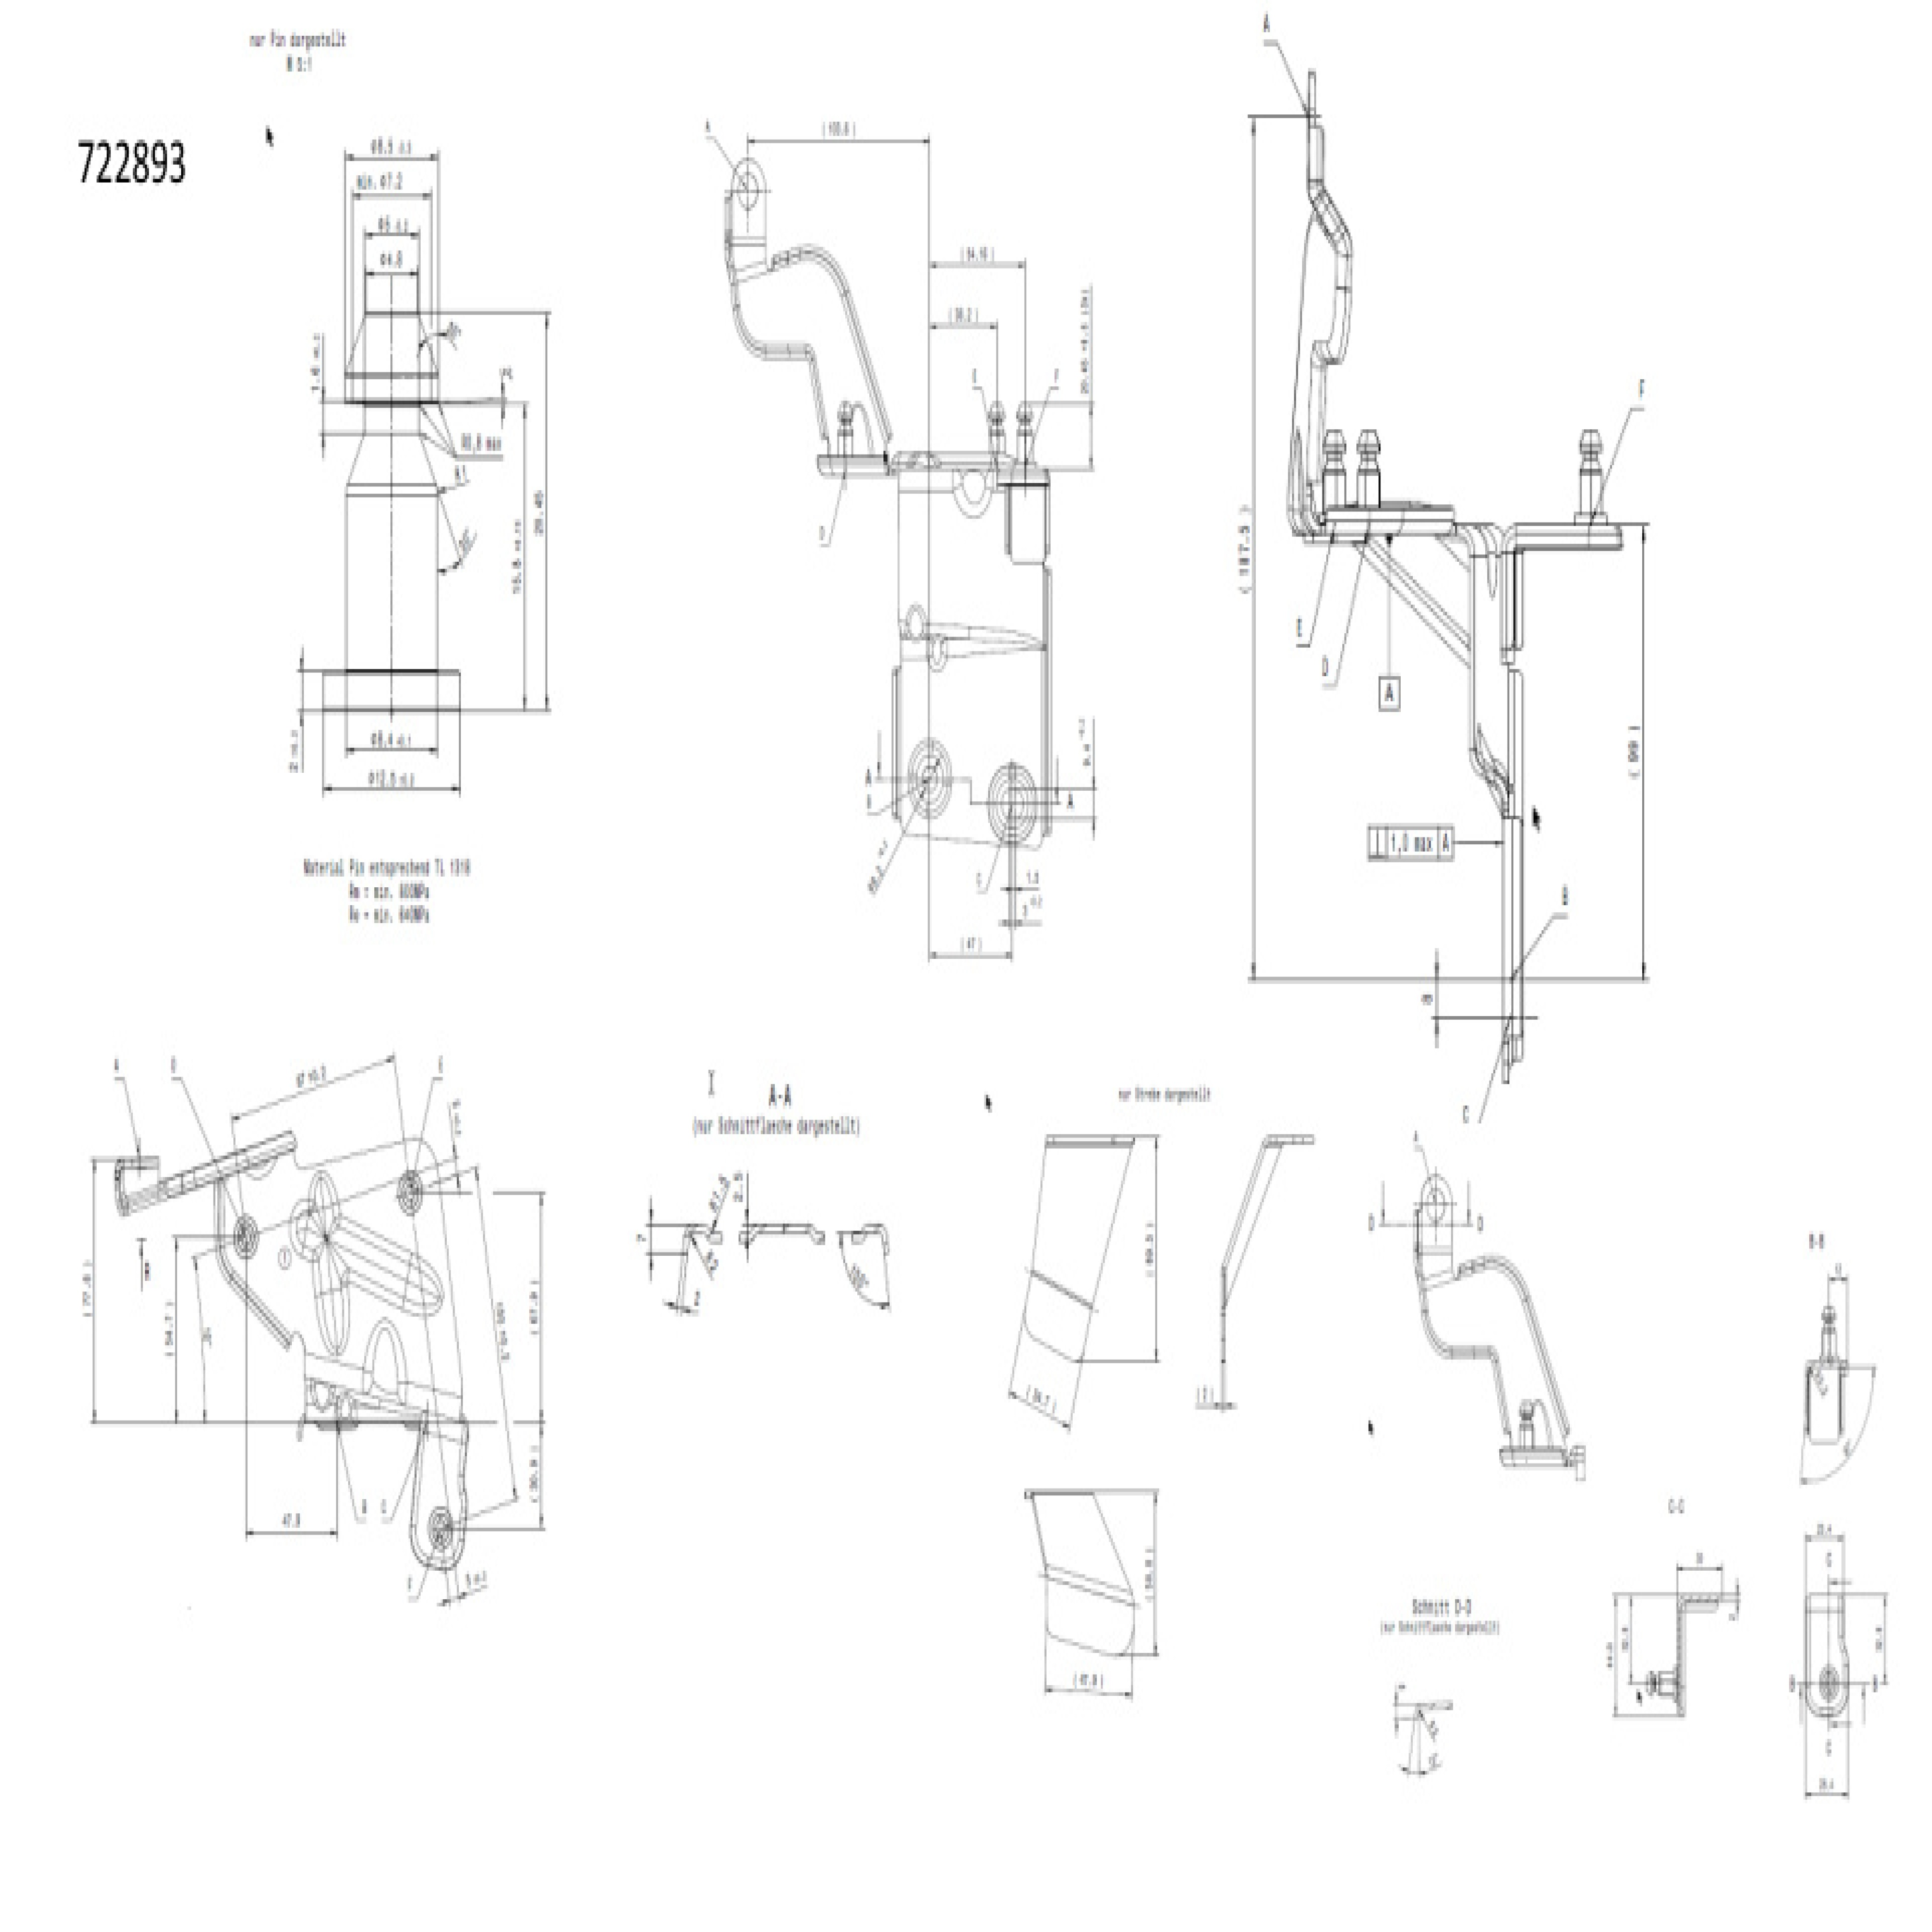Embossment: (315, 1207, 467, 1323)
Reinforcement: (366, 1315, 412, 1408), (950, 467, 994, 520), (242, 1159, 285, 1187), (925, 637, 950, 674), (906, 602, 925, 640), (310, 1380, 333, 1410), (336, 1389, 357, 1417)
